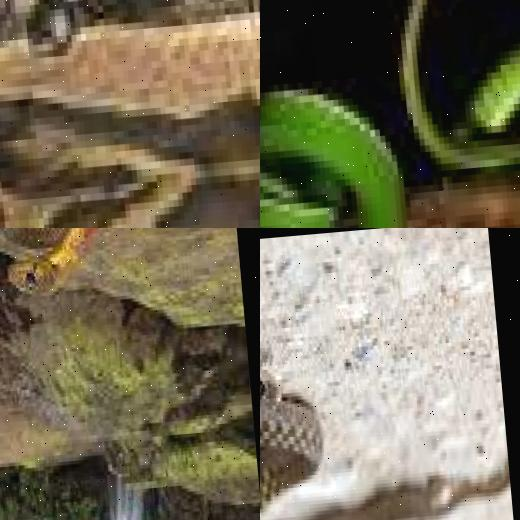snake: (260, 272, 520, 520), (0, 0, 260, 228), (260, 2, 520, 228), (0, 228, 226, 323)
